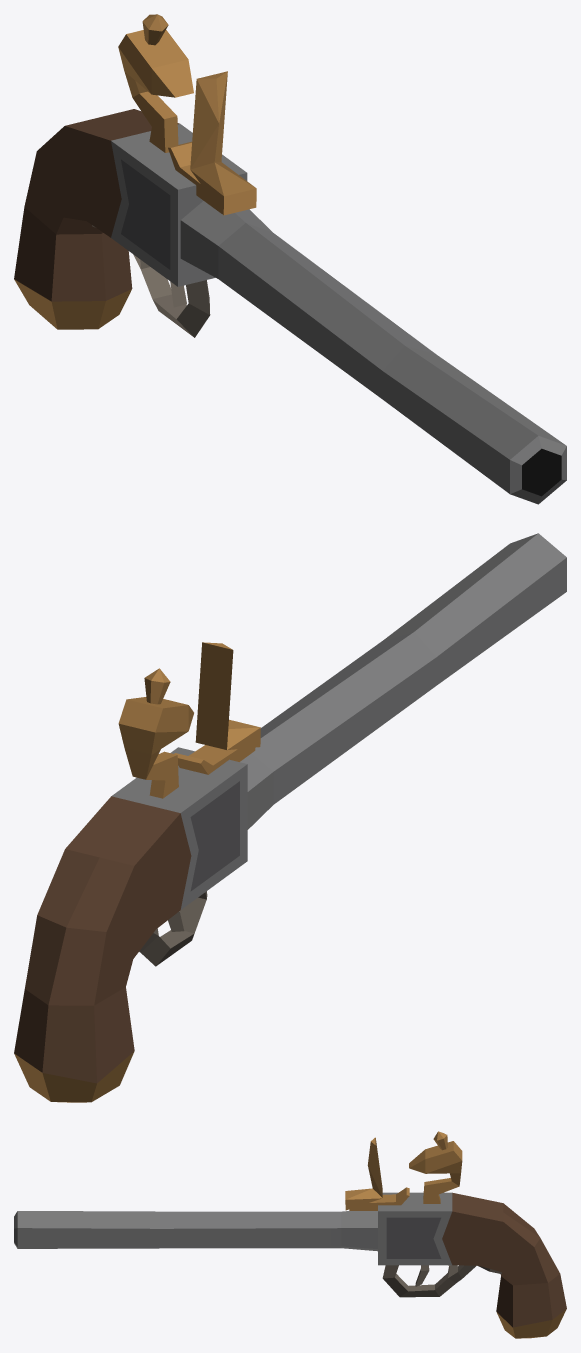
File: SM_Wep_Pistol_01_Separate.glb
The picture shows the model from 3 angles, top to bottom: view 1: azimuth 30°, elevation 25°; view 2: azimuth 150°, elevation 25°; view 3: azimuth 270°, elevation 25°; orthographic projection. The views are drawn at different scales.
Parts seen in each view (by area): view 1: SM_Wep_Pistol_01_Trigger; view 2: SM_Wep_Pistol_01_Trigger; view 3: SM_Wep_Pistol_01_Trigger.
Part boxes in pixels (x1,y1,x2,y2): SM_Wep_Pistol_01_Trigger: (14,14,566,504); SM_Wep_Pistol_01_Trigger: (14,533,566,1102); SM_Wep_Pistol_01_Trigger: (14,1131,566,1338).
Size of the model in its own units: 0.000499 by 0.00215 by 0.00521.
